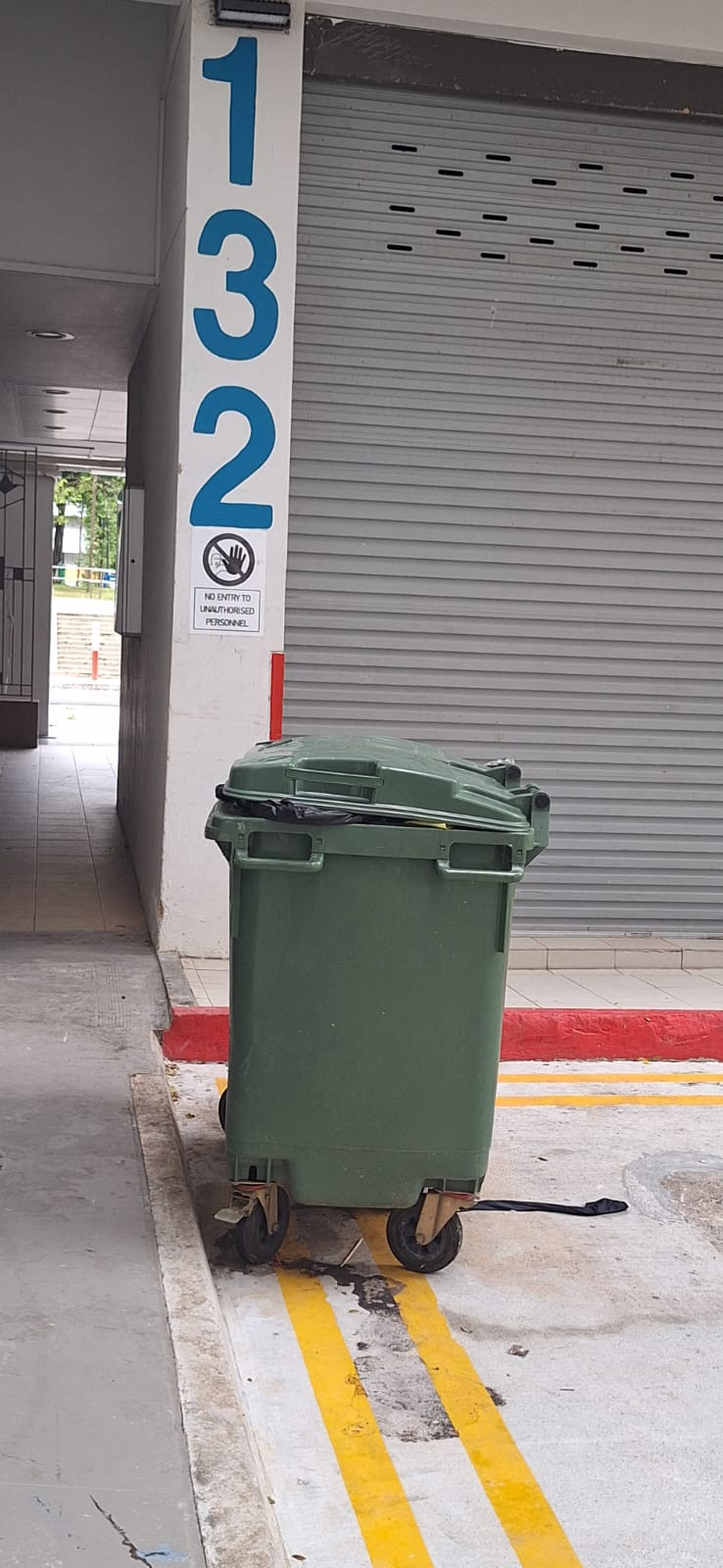bin_empty: (206, 737, 548, 1273)
